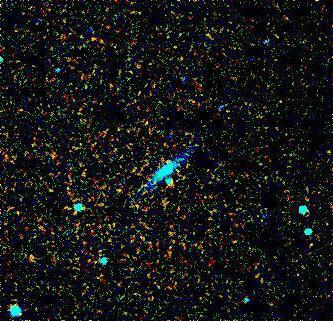star: (154, 142, 184, 172)
